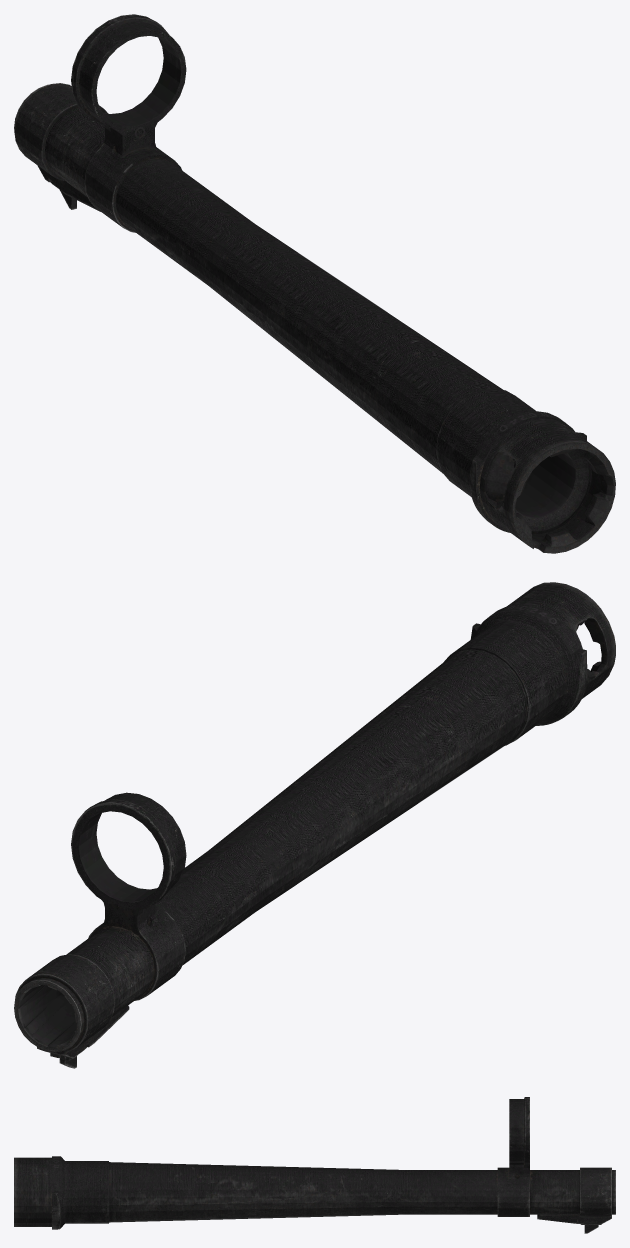
The picture shows the model from 3 angles, top to bottom: view 1: azimuth 30°, elevation 25°; view 2: azimuth 150°, elevation 25°; view 3: azimuth 270°, elevation 25°; orthographic projection. The views are drawn at different scales.
Visible parts, largest first — view 1: TW_5e848d1c264f7c180b5e35a9_PZ_Import; view 2: TW_5e848d1c264f7c180b5e35a9_PZ_Import; view 3: TW_5e848d1c264f7c180b5e35a9_PZ_Import.
Part boxes in pixels (x1=…): TW_5e848d1c264f7c180b5e35a9_PZ_Import: x1=14, y1=14, x2=615, y2=553; TW_5e848d1c264f7c180b5e35a9_PZ_Import: x1=14, y1=582, x2=615, y2=1068; TW_5e848d1c264f7c180b5e35a9_PZ_Import: x1=14, y1=1097, x2=615, y2=1233.
Bounding box in the file's own units: 0.0254 × 0.2054 × 0.05.
1 material, 1 textured.
